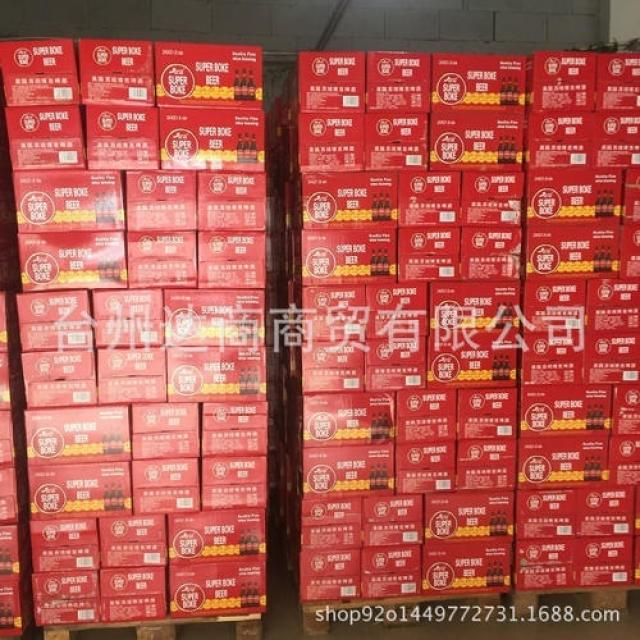box: (154, 41, 262, 110), (12, 170, 125, 233), (17, 230, 128, 293), (24, 404, 132, 465), (159, 109, 262, 172), (294, 436, 396, 499), (294, 385, 396, 447), (26, 461, 132, 518), (169, 559, 268, 620), (431, 52, 526, 115), (292, 173, 398, 229), (0, 37, 82, 108), (164, 289, 266, 346), (429, 113, 525, 173), (296, 228, 397, 285), (166, 507, 266, 564), (524, 170, 622, 227), (166, 347, 266, 402), (289, 50, 365, 122), (4, 108, 87, 172), (78, 38, 156, 106), (521, 227, 621, 280), (429, 279, 520, 337), (517, 384, 613, 438), (422, 490, 515, 545), (291, 114, 364, 183), (86, 105, 161, 172), (515, 436, 609, 489), (292, 530, 360, 602), (426, 337, 518, 389), (20, 348, 97, 410), (293, 480, 362, 549), (15, 291, 93, 352), (421, 544, 512, 595), (525, 51, 595, 114), (127, 170, 197, 232), (525, 111, 596, 172), (197, 172, 268, 232), (92, 288, 164, 347), (294, 283, 365, 342), (294, 335, 365, 394), (127, 230, 197, 289), (96, 347, 166, 406), (31, 568, 101, 627), (365, 51, 431, 113), (133, 456, 201, 516), (197, 230, 266, 289), (132, 402, 200, 461), (28, 516, 99, 572), (97, 515, 169, 570), (200, 454, 269, 511), (99, 567, 169, 623), (364, 113, 429, 173), (200, 402, 268, 457), (518, 279, 586, 334), (511, 536, 579, 590), (396, 227, 461, 283), (365, 283, 430, 339), (458, 227, 522, 283), (397, 173, 462, 228), (516, 334, 585, 385), (461, 173, 525, 227), (364, 337, 426, 392), (394, 390, 456, 445), (515, 488, 579, 541), (362, 493, 422, 548), (454, 440, 517, 492), (456, 388, 517, 440), (360, 547, 421, 599), (585, 278, 640, 333), (577, 536, 634, 589), (582, 332, 640, 384), (579, 485, 635, 538), (396, 444, 456, 493), (594, 52, 639, 111), (595, 111, 639, 170), (0, 570, 33, 635), (0, 522, 32, 582), (0, 402, 27, 467), (0, 463, 28, 525), (608, 435, 639, 485), (0, 347, 24, 411), (612, 384, 640, 436), (0, 292, 20, 353), (621, 170, 640, 228), (620, 228, 639, 278), (631, 536, 640, 588), (635, 484, 640, 536)
